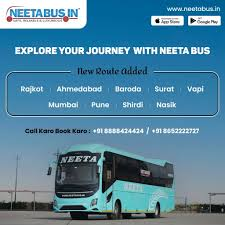bus: (45, 143, 176, 221)
